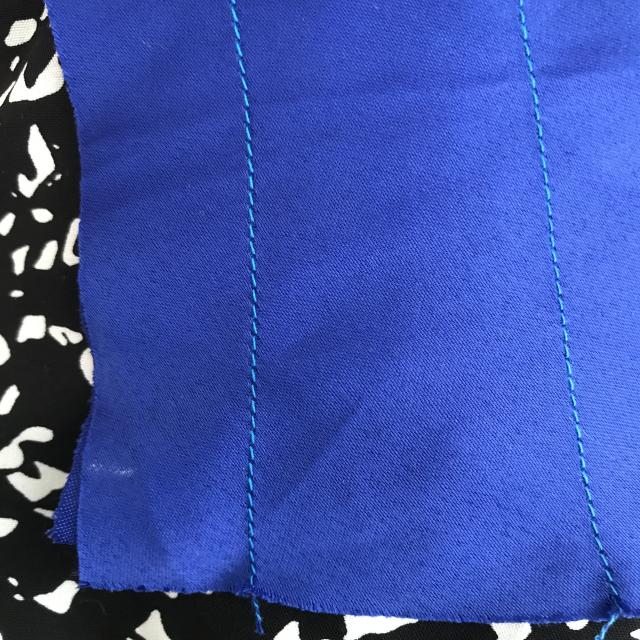good: (218, 24, 276, 318), (543, 267, 608, 467), (514, 38, 571, 236), (228, 336, 276, 567)
